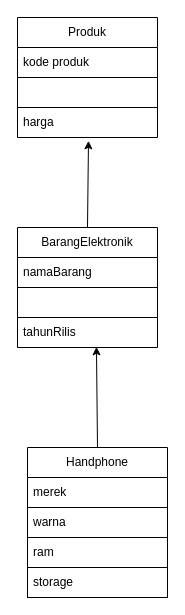
The diagram is 185 pixels wide and 615 high, and some of its shapes have lost their labels. The shapes that lost their labels are listed below. From the top down, each one's centre as x and y in pixels, then its label:
At point 87,92: "stok".
At point 87,302: "garansi".
